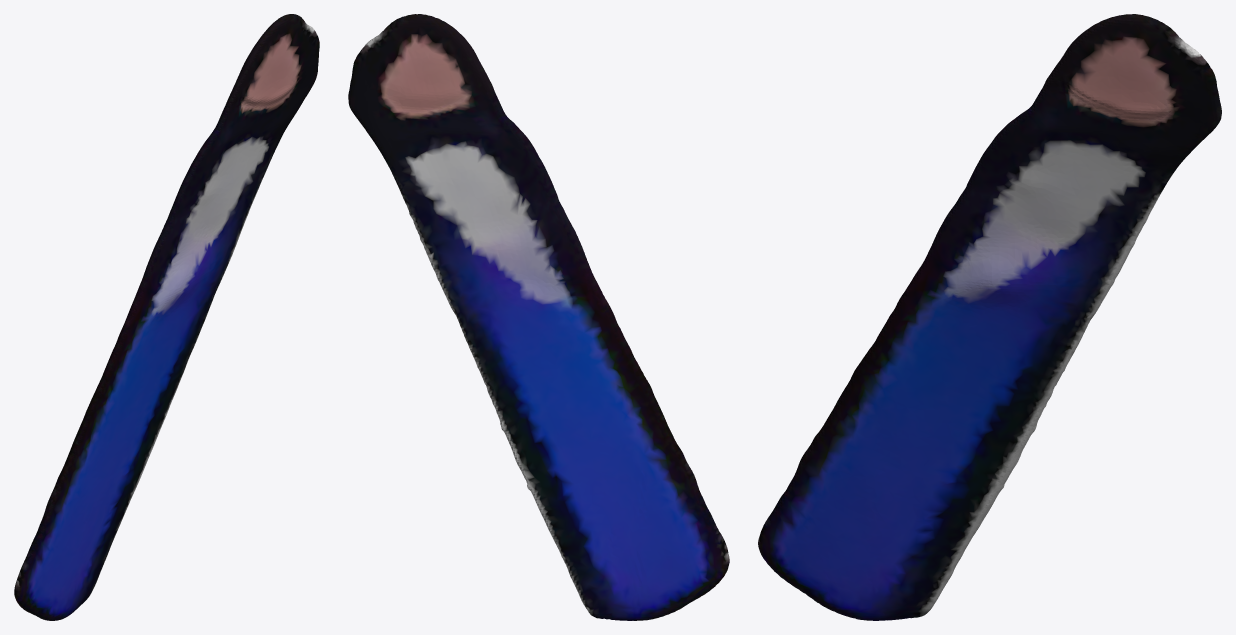
The model's file is vial_blue.glb.
3 views of the same model, side by side, from view 1: azimuth 30°, elevation 25°; view 2: azimuth 150°, elevation 25°; view 3: azimuth 330°, elevation 25° (orthographic). The views are drawn at different scales.
Visible parts, largest first — view 1: geometry_0; view 2: geometry_0; view 3: geometry_0.
Boxes of the visible parts, bbox=[...] form: geometry_0: bbox=[14, 14, 319, 620]; geometry_0: bbox=[348, 14, 729, 620]; geometry_0: bbox=[758, 14, 1221, 620].
Bounding box in the file's own units: 0.3438 × 0.5299 × 0.0743.
